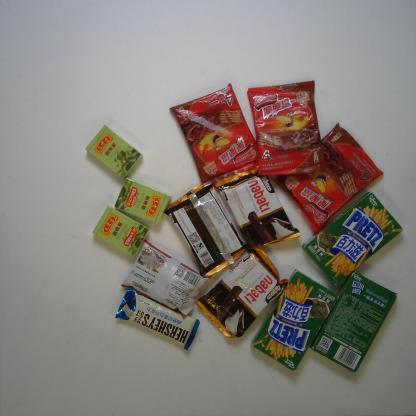Candy: (84, 122, 144, 181), (90, 204, 152, 258), (112, 176, 172, 226)
Chocolate: (114, 287, 202, 352)
Dessert: (271, 121, 385, 236), (301, 188, 405, 290), (169, 81, 262, 190), (307, 269, 400, 375), (250, 268, 340, 372), (194, 246, 288, 340), (162, 180, 250, 279), (245, 78, 329, 178), (214, 162, 302, 252)
Seasoner: (120, 236, 213, 320)
